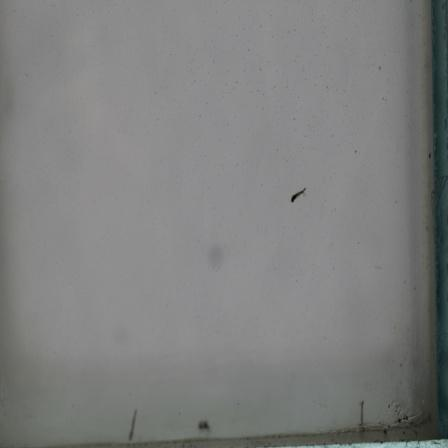Jentik-Nyamuk: (287, 184, 310, 207)
